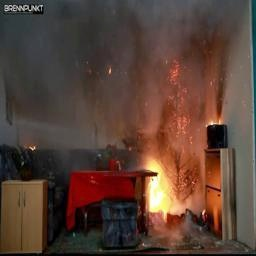fire: (137, 127, 200, 232)
